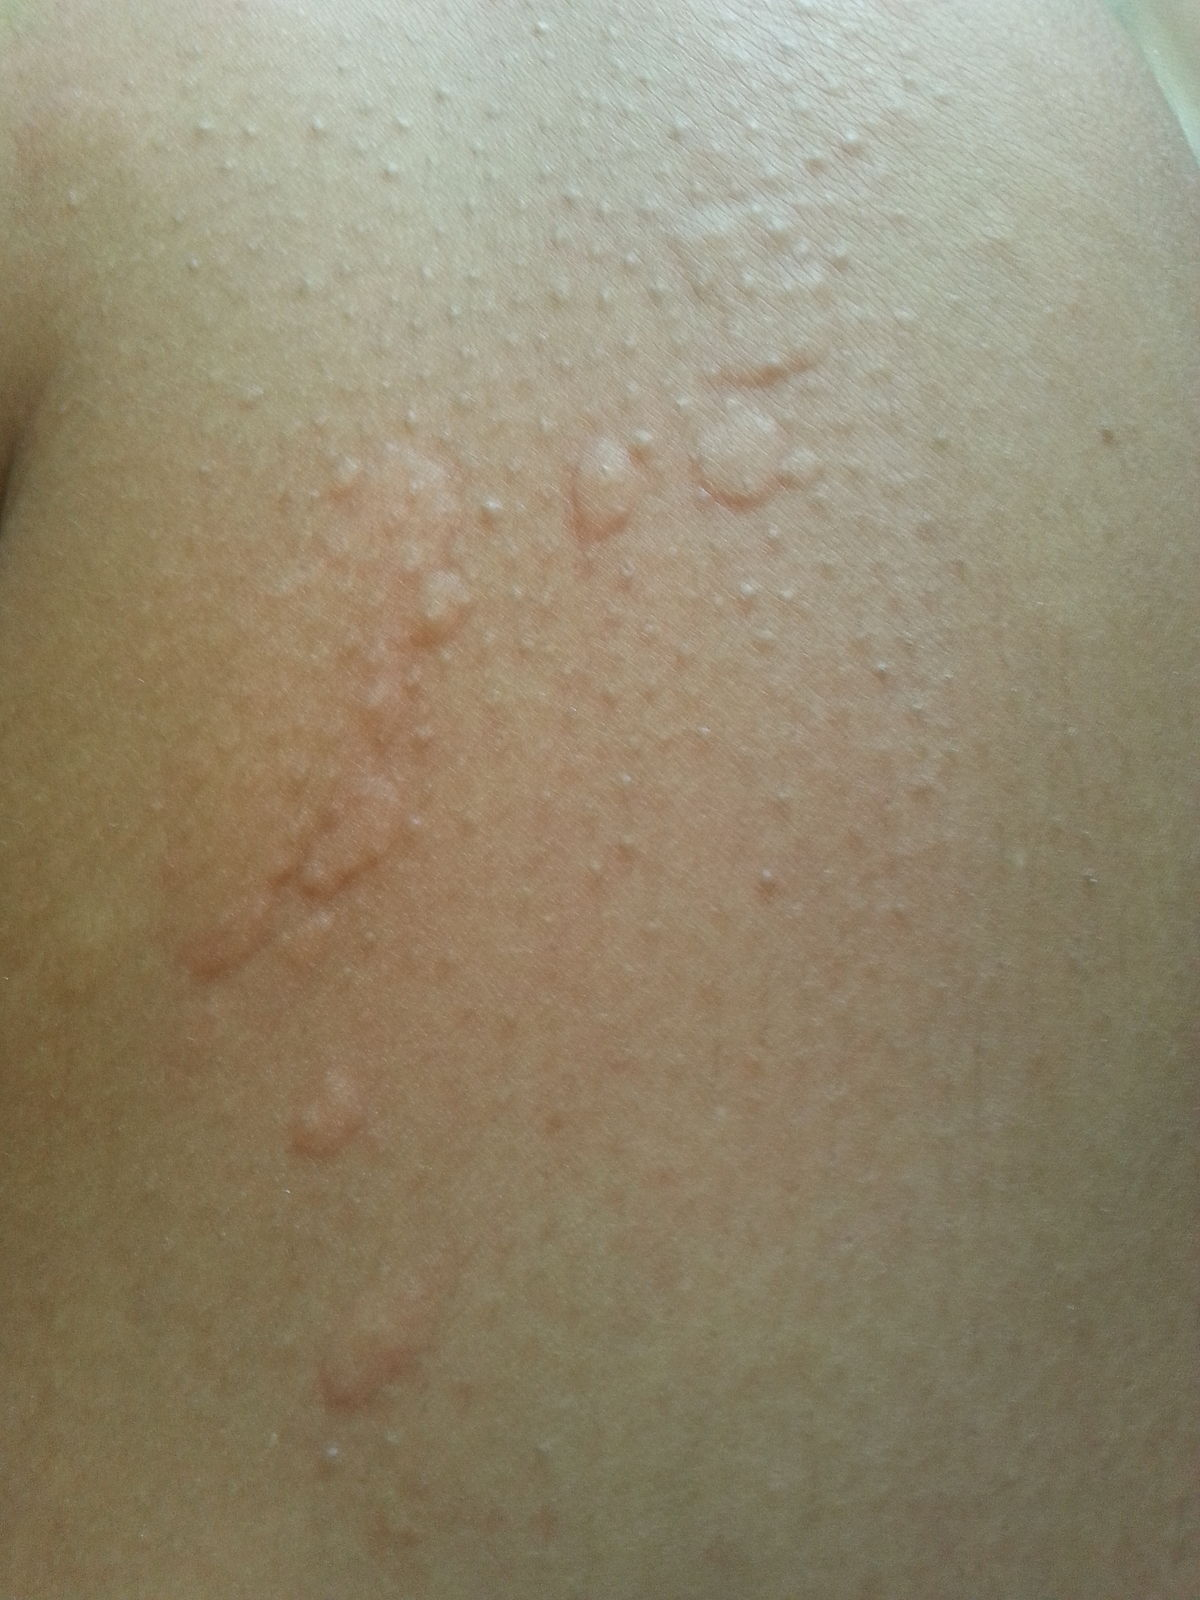Hives: (120, 454, 493, 998), (676, 198, 853, 511)
